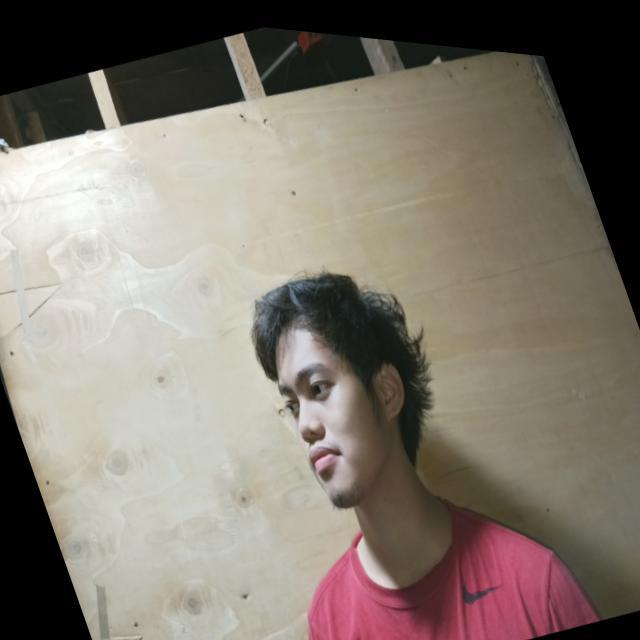Nonhelmet: (247, 267, 436, 512)
